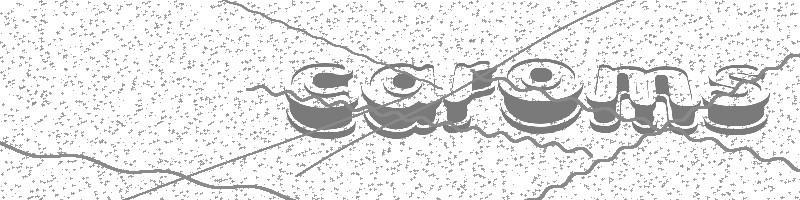a: (360, 60, 440, 140)
c: (284, 61, 359, 140)
m: (586, 63, 701, 137)
o: (499, 58, 585, 135)
r: (443, 60, 495, 134)
s: (702, 63, 770, 137)
